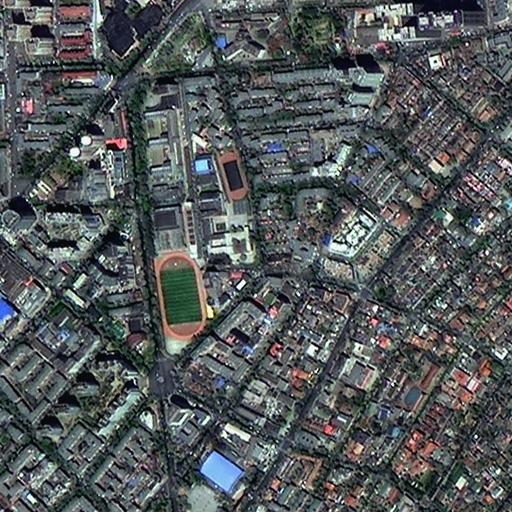school: (139, 100, 210, 348), (190, 146, 256, 267), (391, 362, 442, 411)
